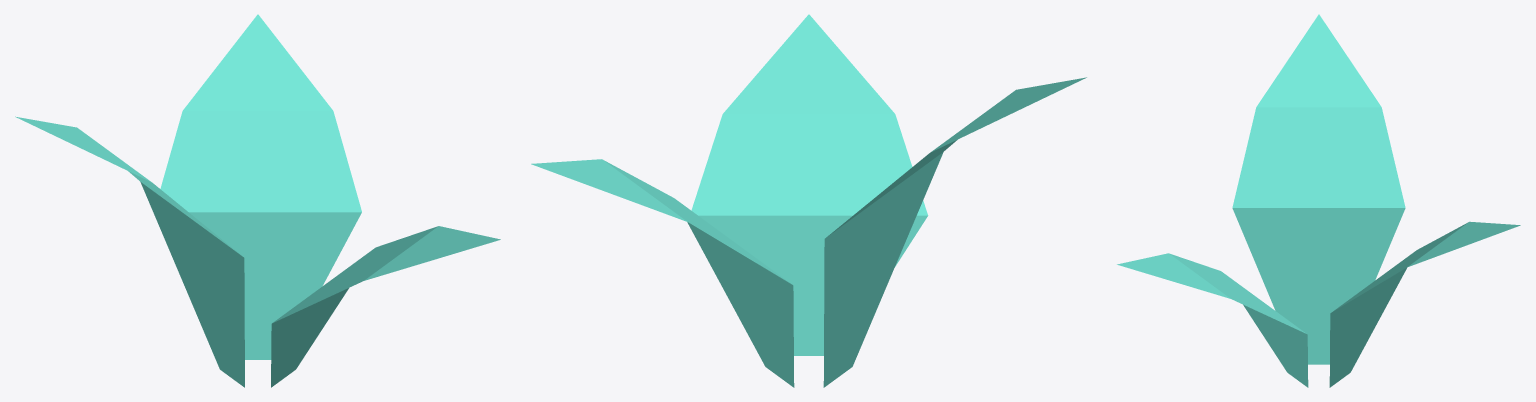
Rendered from plant_bushTriangle.glb.
The picture shows the model from 3 angles, left to right: view 1: azimuth 30°, elevation 25°; view 2: azimuth 150°, elevation 25°; view 3: azimuth 270°, elevation 25°; orthographic projection. The views are drawn at different scales.
Parts seen in each view (by area): view 1: plant_bushTriangle; view 2: plant_bushTriangle; view 3: plant_bushTriangle.
Boxes of the visible parts, x1,y1,x2,y2 form: plant_bushTriangle: [15, 14, 500, 387]; plant_bushTriangle: [531, 14, 1086, 387]; plant_bushTriangle: [1117, 14, 1520, 387].
Bounding box in the file's own units: 0.3644 × 0.2955 × 0.4136.
